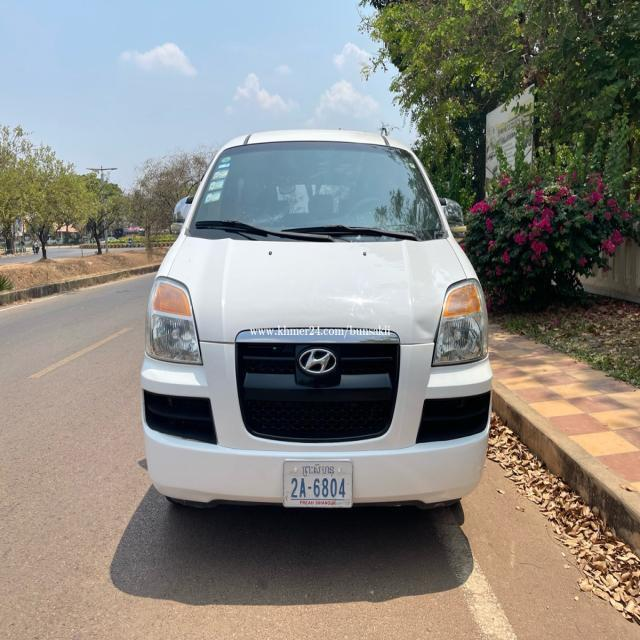Preah_Sihanouk: (299, 462, 336, 478)
